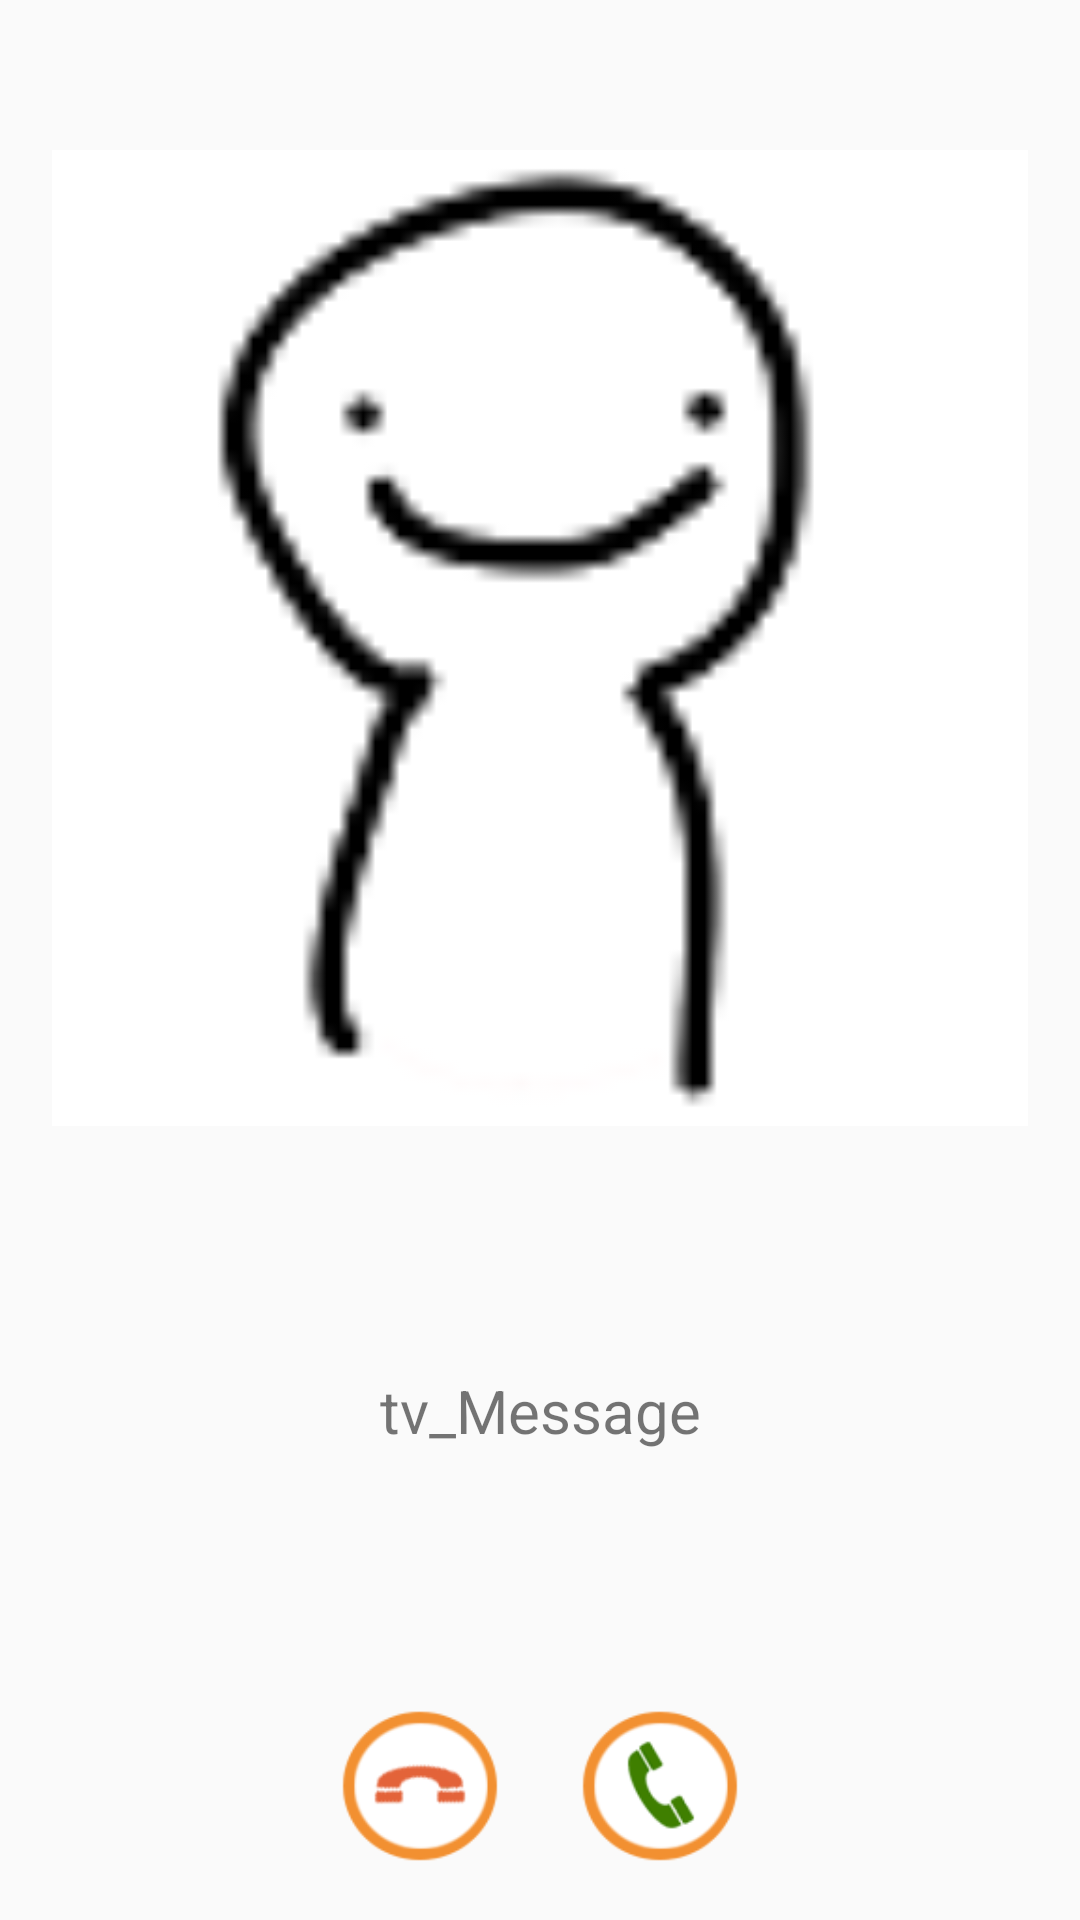

Icons on this 1080x1920 Android screen, each with its box as box=[x1, y1, x2, y2]:
hangup: box=[342, 1711, 498, 1861]
pickup: box=[582, 1711, 738, 1861]
